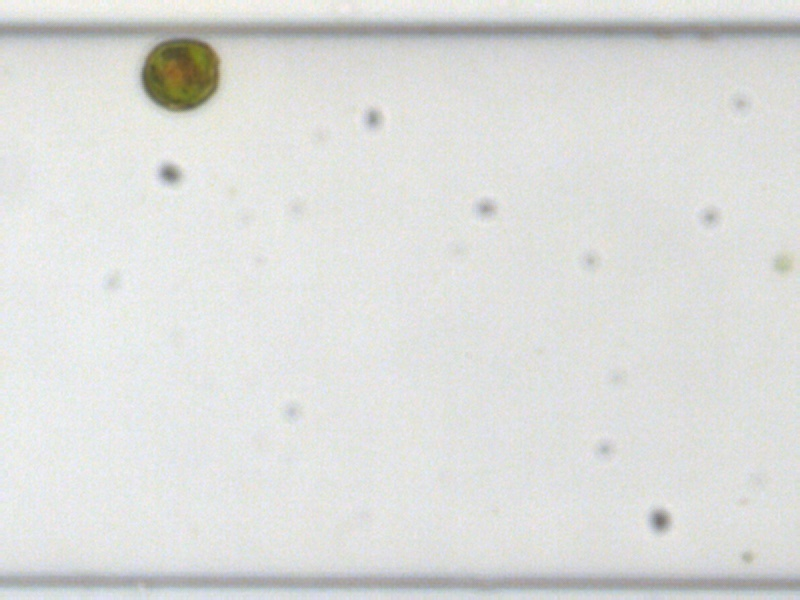Chlorella: (771, 251, 792, 272)
Haematococcus: (135, 34, 222, 115)
